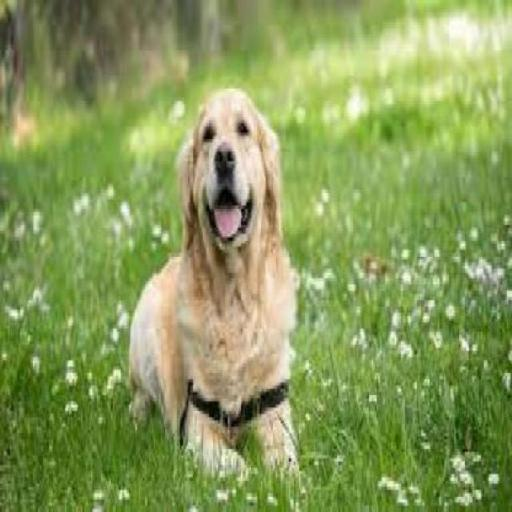Dog: (148, 106, 310, 478)
